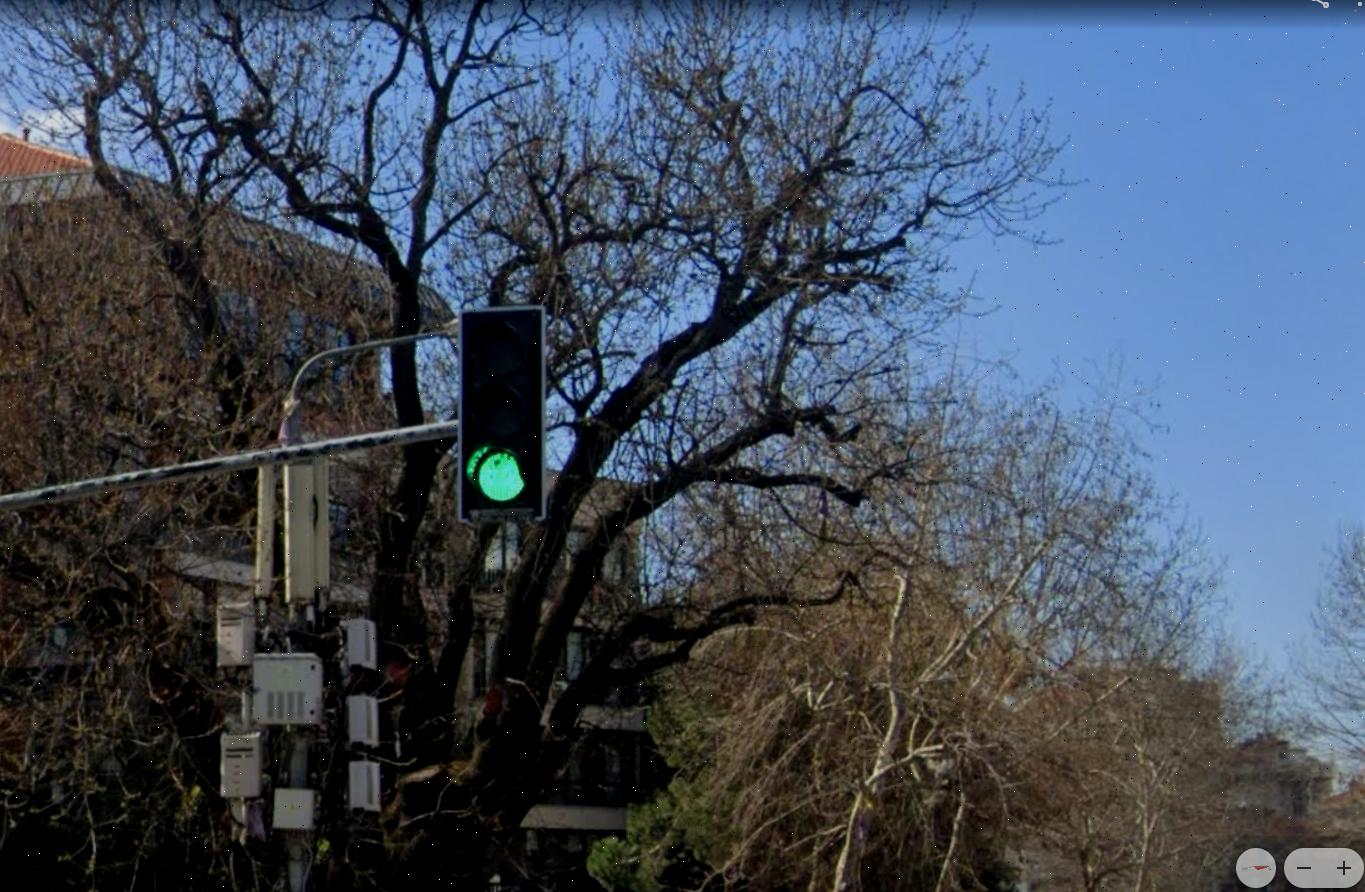greenlight: (460, 310, 546, 507)
